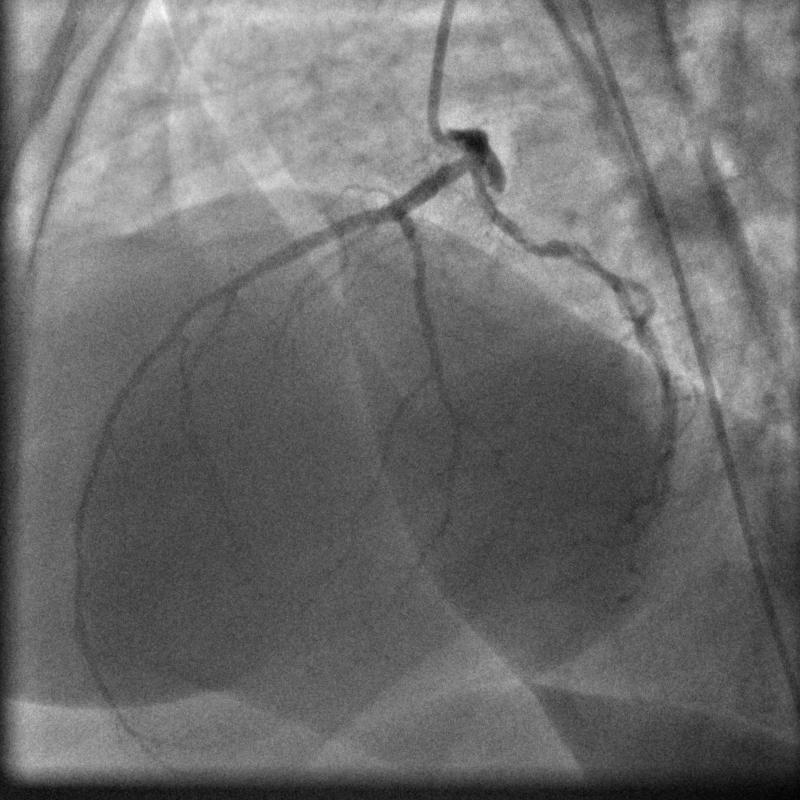Stenosis: (515, 223, 554, 267)
